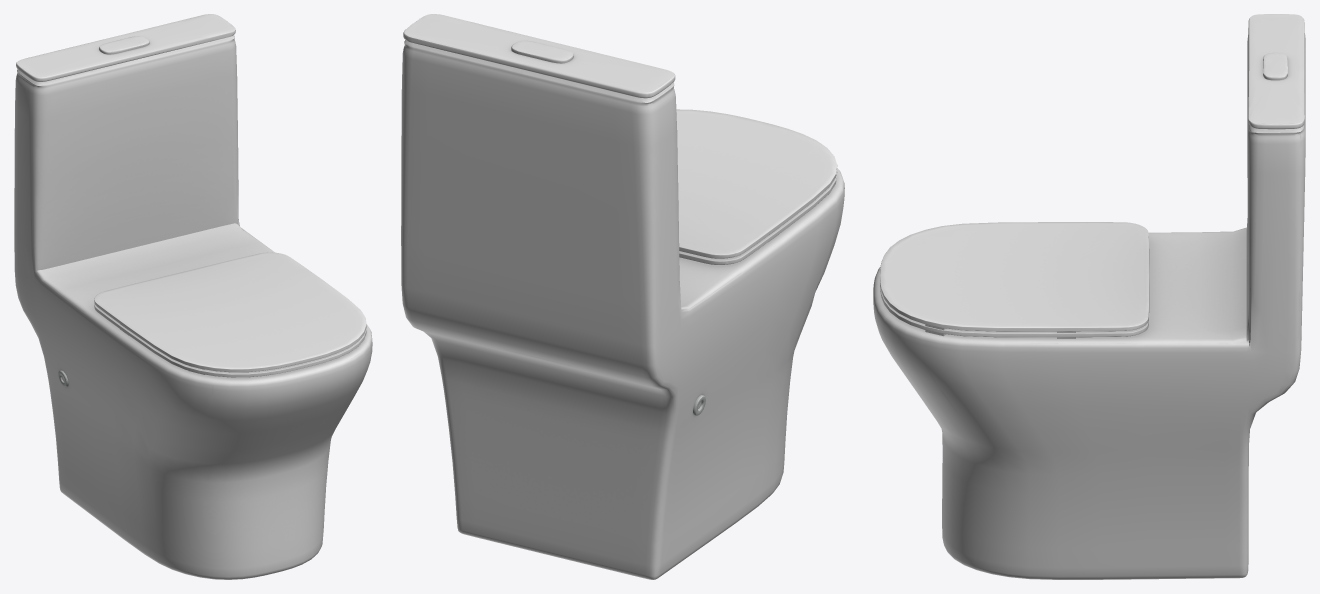
The model's file is Sanitary ware _004.gltf.
3 renders of one model, left to right at view 1: azimuth 30°, elevation 25°; view 2: azimuth 150°, elevation 25°; view 3: azimuth 270°, elevation 25°, orthographic. The views are drawn at different scales.
Parts seen in each view (by area): view 1: Sanitary ware _004; view 2: Sanitary ware _004; view 3: Sanitary ware _004.
Boxes of the visible parts, x1,y1,x2,y2 form: Sanitary ware _004: (14, 14, 372, 579); Sanitary ware _004: (401, 14, 844, 579); Sanitary ware _004: (873, 14, 1305, 579).
Size of the model in its own units: 0.3341 by 0.6544 by 0.5428.
Materials: 1 (1 with a texture image).
